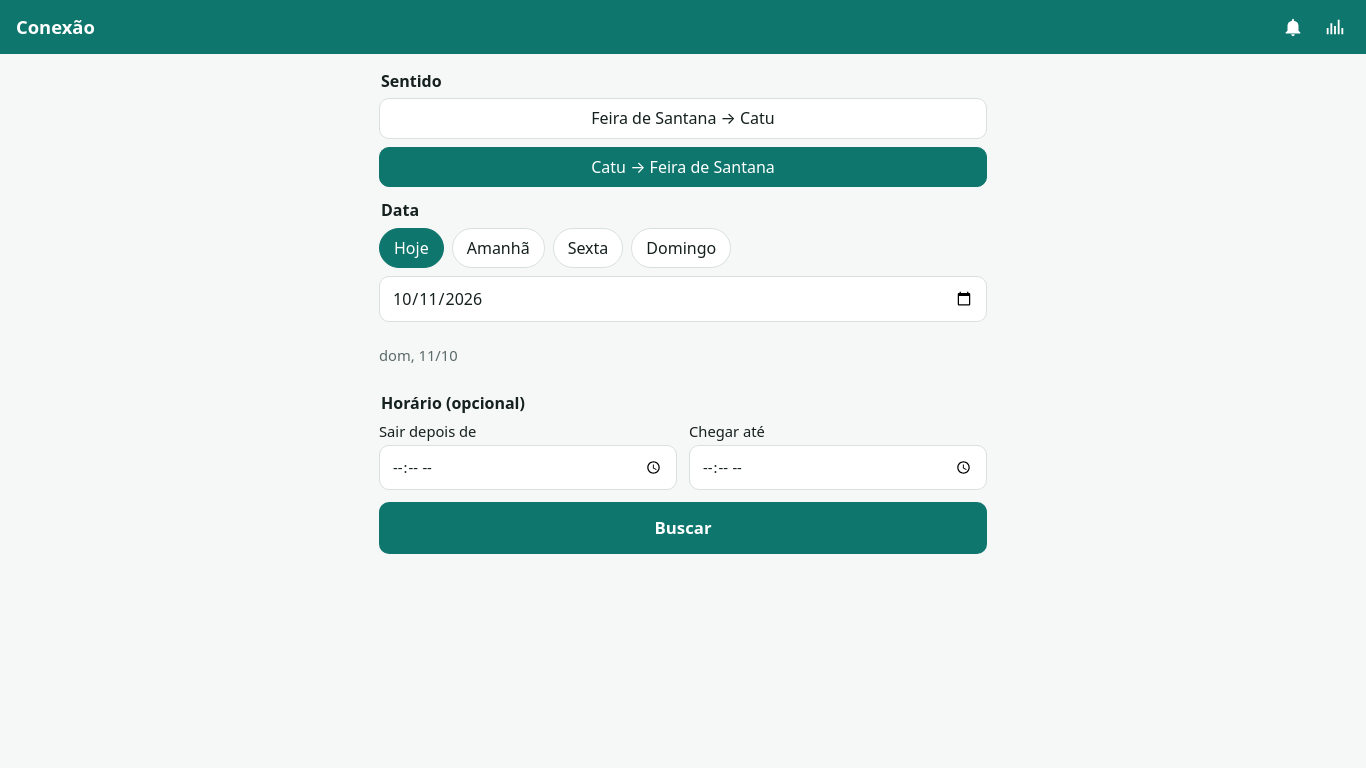
Buscar › num domingo, "Domingo" é o da semana que vem (não repete "Hoje")
Click the button "Domingo": (681, 248) [631,228,731,268]
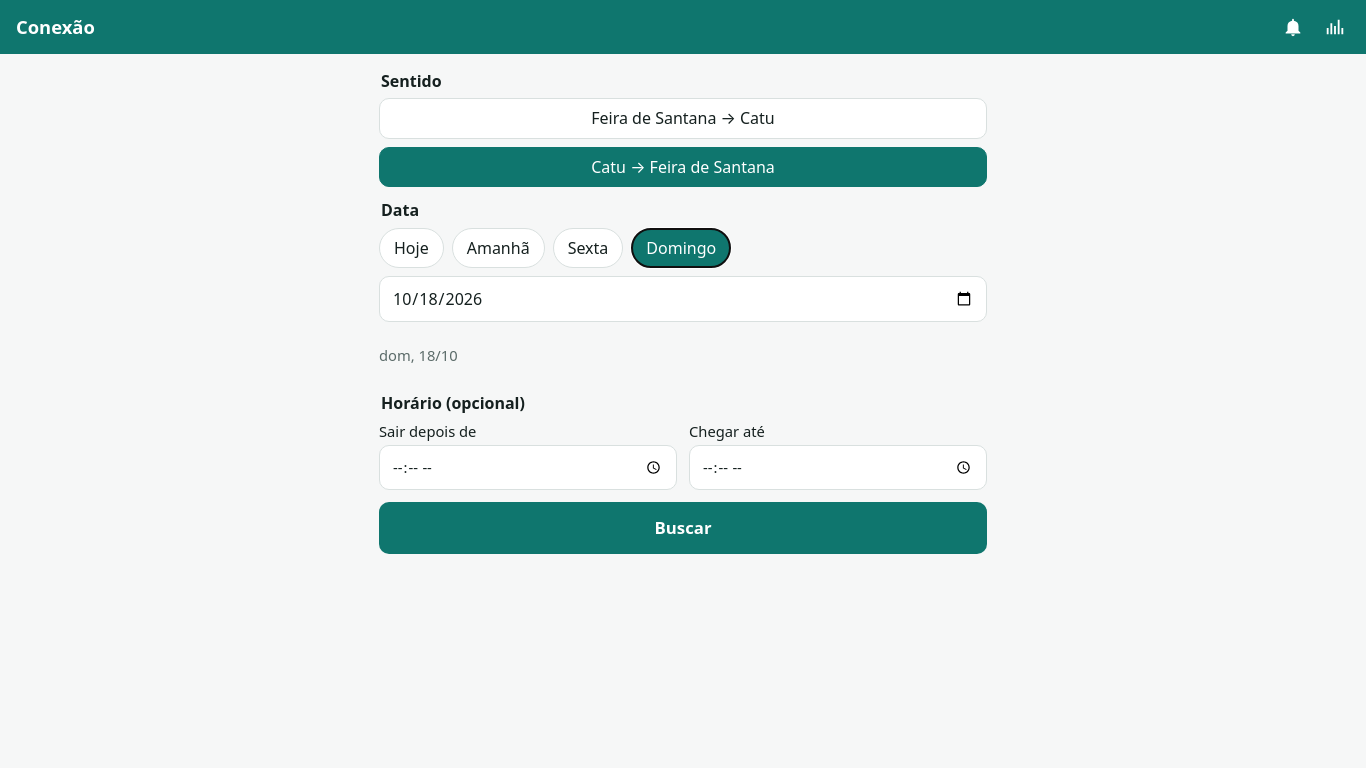
Result: the text "dom, 18/10" is shown at [379,345,458,365]
